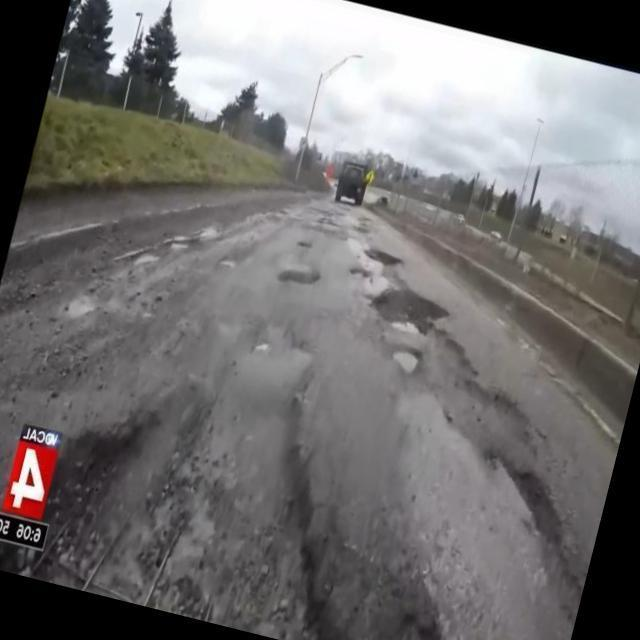Pothole: (511, 471, 557, 545), (371, 294, 438, 337), (393, 347, 417, 378)
